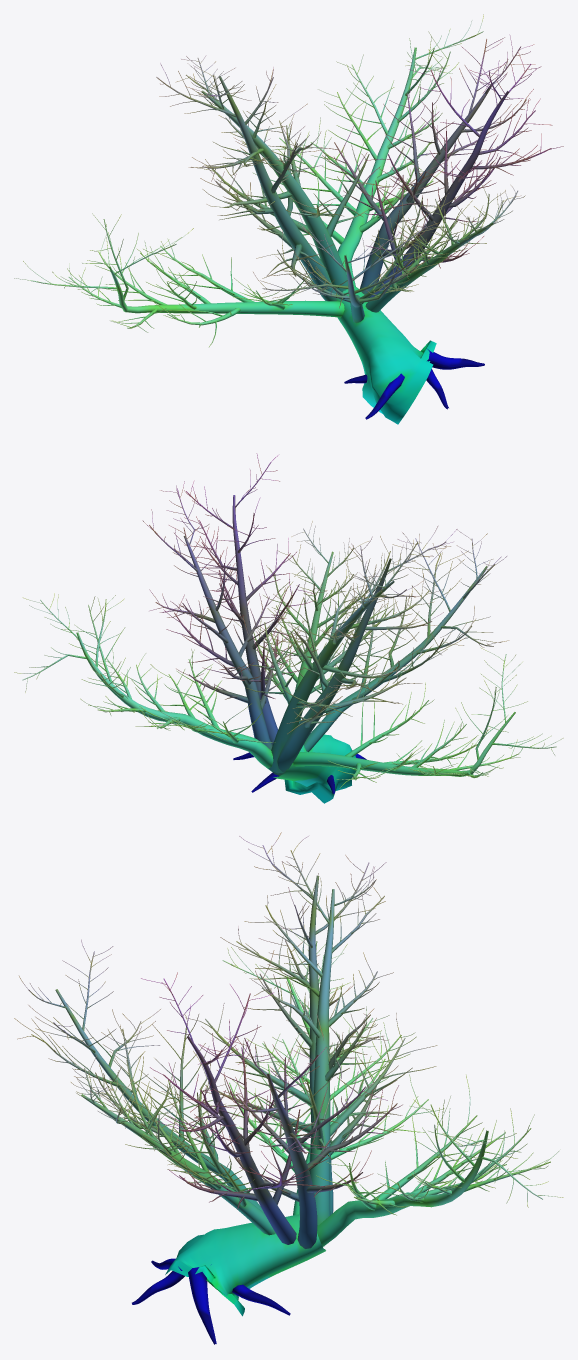
File: sakura-hero-spreading.glb
3 renders of one model, top to bottom at view 1: azimuth 30°, elevation 25°; view 2: azimuth 150°, elevation 25°; view 3: azimuth 270°, elevation 25°, orthographic. The views are drawn at different scales.
Visible parts, largest first — view 1: bark; view 2: bark; view 3: bark.
Part boxes in pixels (x1=…): bark: x1=14, y1=14, x2=563, y2=424; bark: x1=14, y1=453, x2=563, y2=803; bark: x1=14, y1=832, x2=563, y2=1344.
Bounding box in the file's own units: 19.55 × 12.63 × 15.59.
